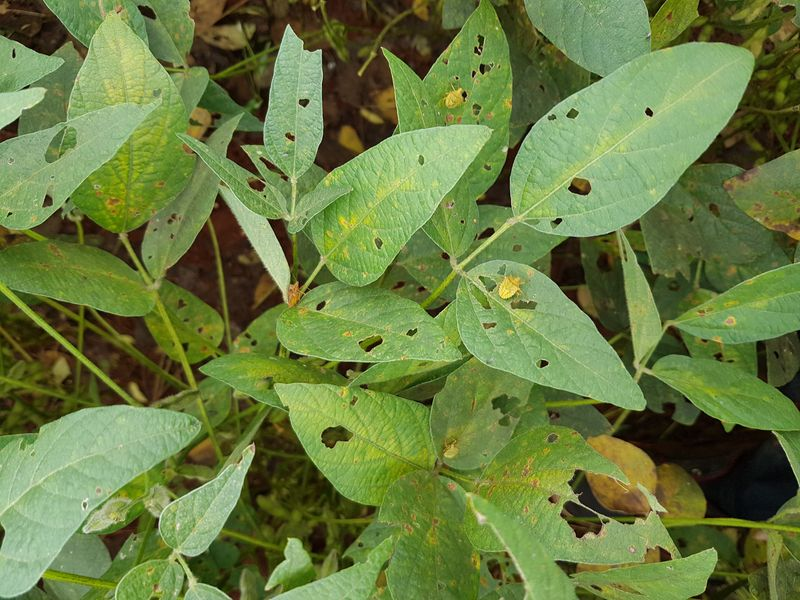Euschistus_heros_adulto: (280, 277, 313, 313)
Euschistus_heros_ninfa: (492, 269, 531, 306), (436, 81, 470, 115), (439, 437, 464, 463)
